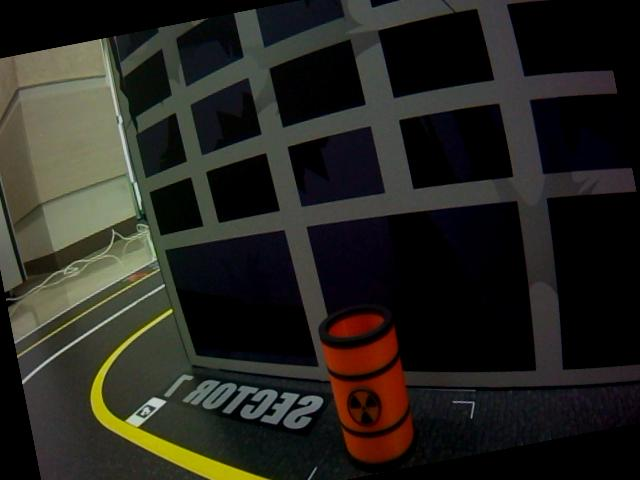Hazmat: (312, 294, 428, 480)
